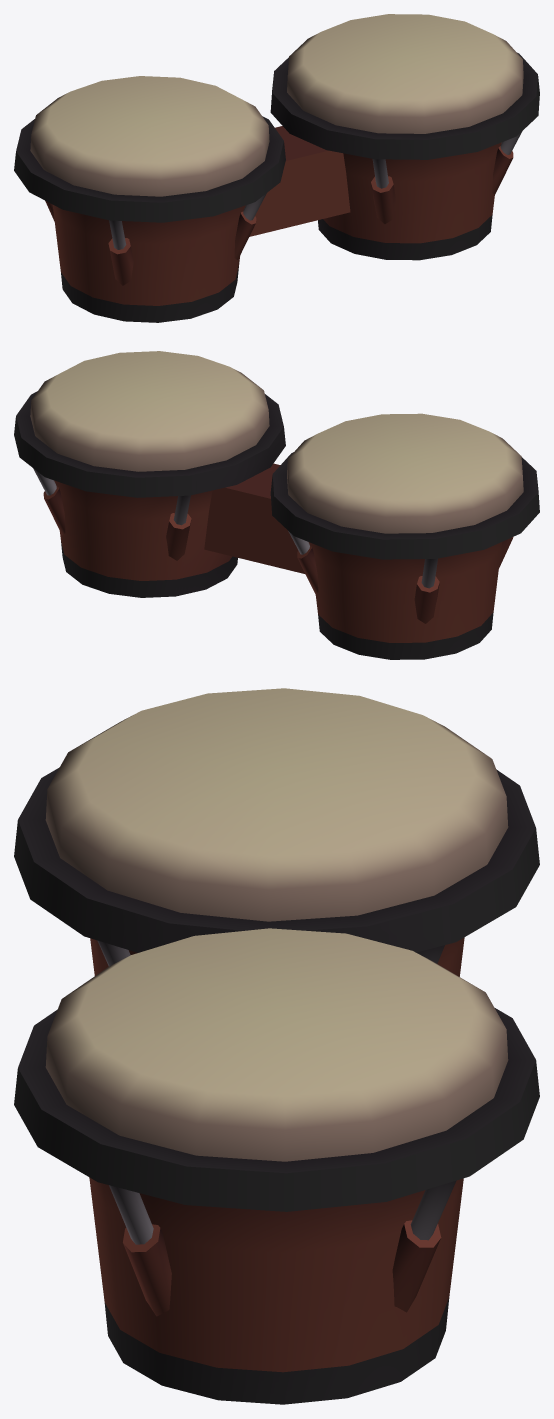
The model's file is human-music-bongo-drums_v1.glb.
The picture shows the model from 3 angles, top to bottom: view 1: azimuth 30°, elevation 25°; view 2: azimuth 150°, elevation 25°; view 3: azimuth 270°, elevation 25°; orthographic projection. The views are drawn at different scales.
Visible parts, largest first — view 1: Bongo Drums; view 2: Bongo Drums; view 3: Bongo Drums.
Boxes of the visible parts, box(x1,y1,x2,y2) form: Bongo Drums: box(14, 14, 539, 322); Bongo Drums: box(14, 351, 539, 659); Bongo Drums: box(14, 688, 539, 1404).
Size of the model in its own units: 0.4 by 0.1295 by 0.1923.
